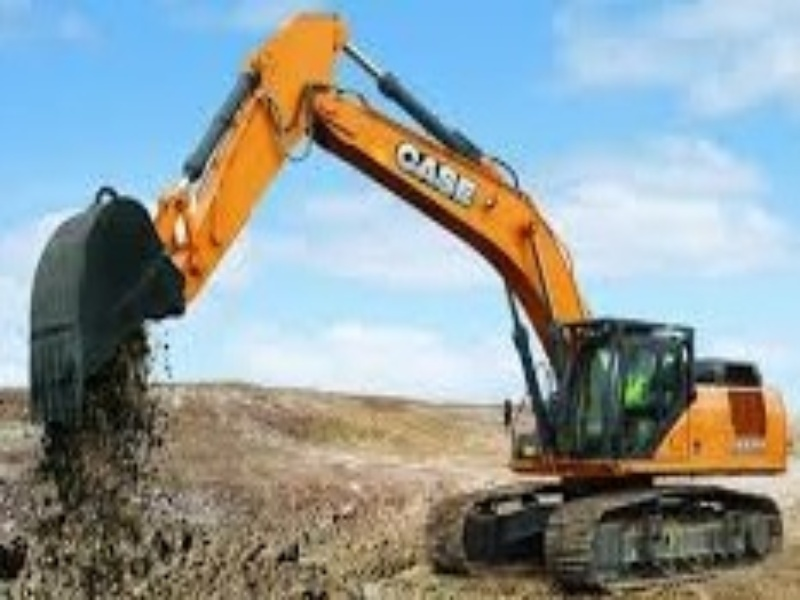wajueji: (374, 211, 800, 585)
